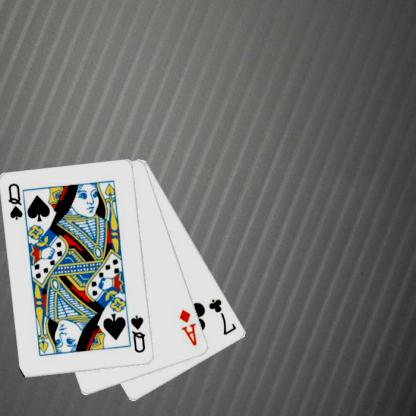7C: (207, 296, 238, 336)
AD: (177, 306, 199, 348)
QS: (5, 180, 24, 222), (128, 313, 147, 354)
